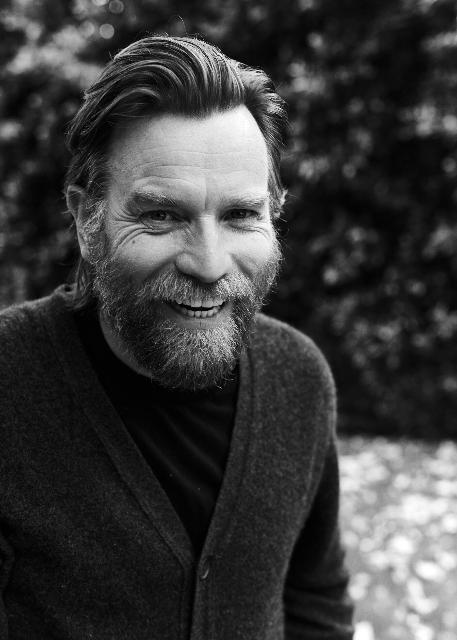crows_feet: (114, 208, 138, 238), (252, 212, 274, 240)
forehead: (140, 168, 178, 188)
frown_line: (199, 184, 213, 214)
gummy_smile: (148, 254, 176, 276), (234, 256, 256, 276)
